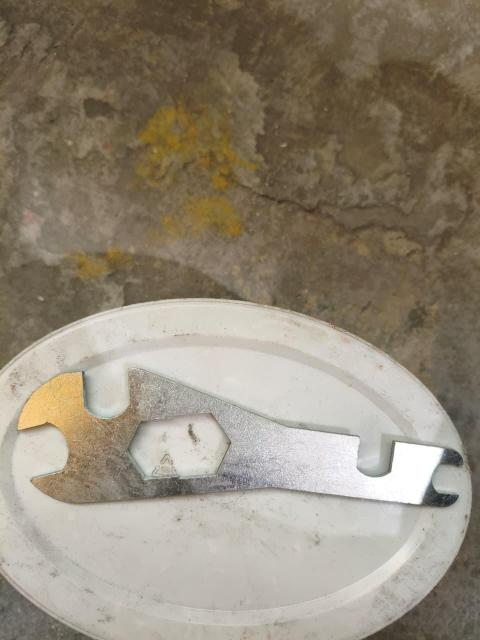Metal: (13, 368, 465, 513)
